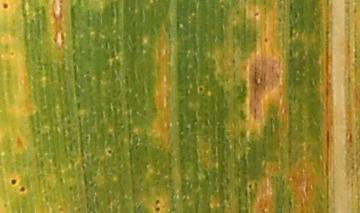tarspot: (1, 2, 11, 11), (196, 85, 205, 94), (105, 148, 114, 156), (263, 37, 272, 45), (252, 10, 261, 18), (8, 178, 18, 185), (18, 186, 27, 193), (154, 198, 161, 207), (247, 182, 254, 191), (153, 206, 160, 213)
